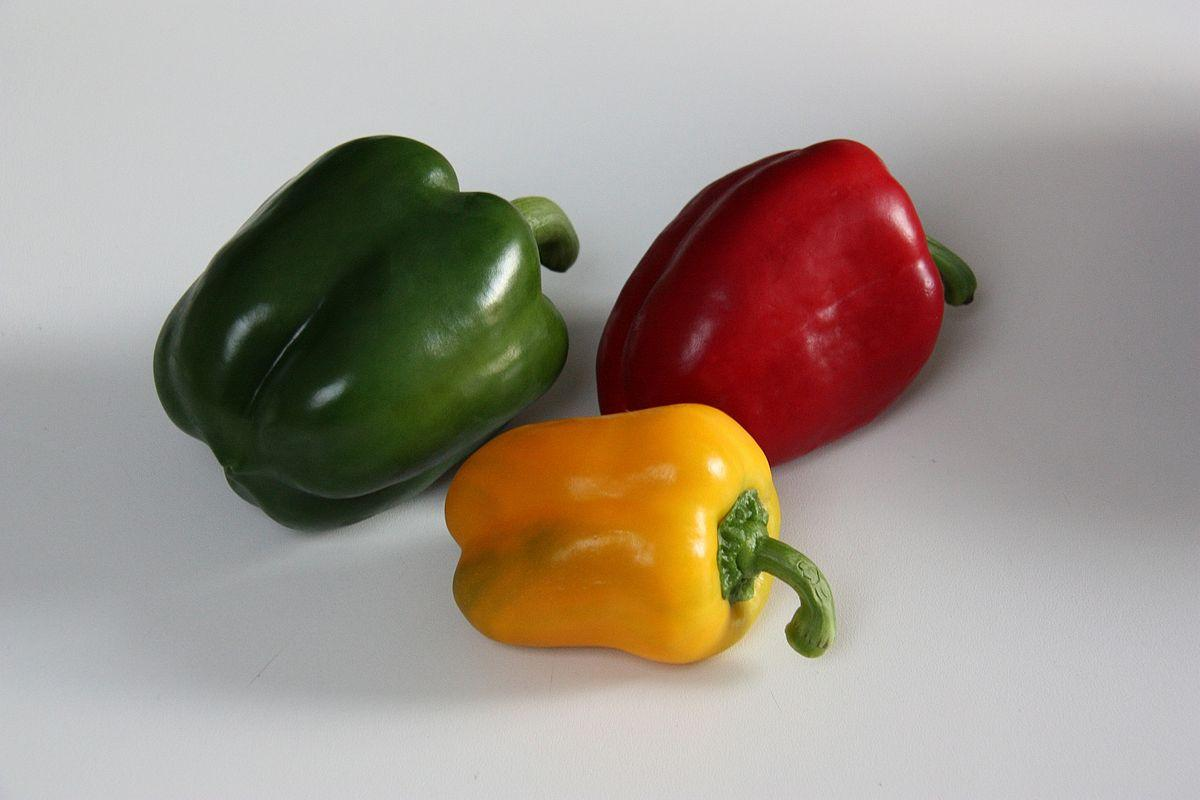bell pepper: (151, 132, 579, 532), (593, 136, 976, 468), (443, 401, 836, 665)
